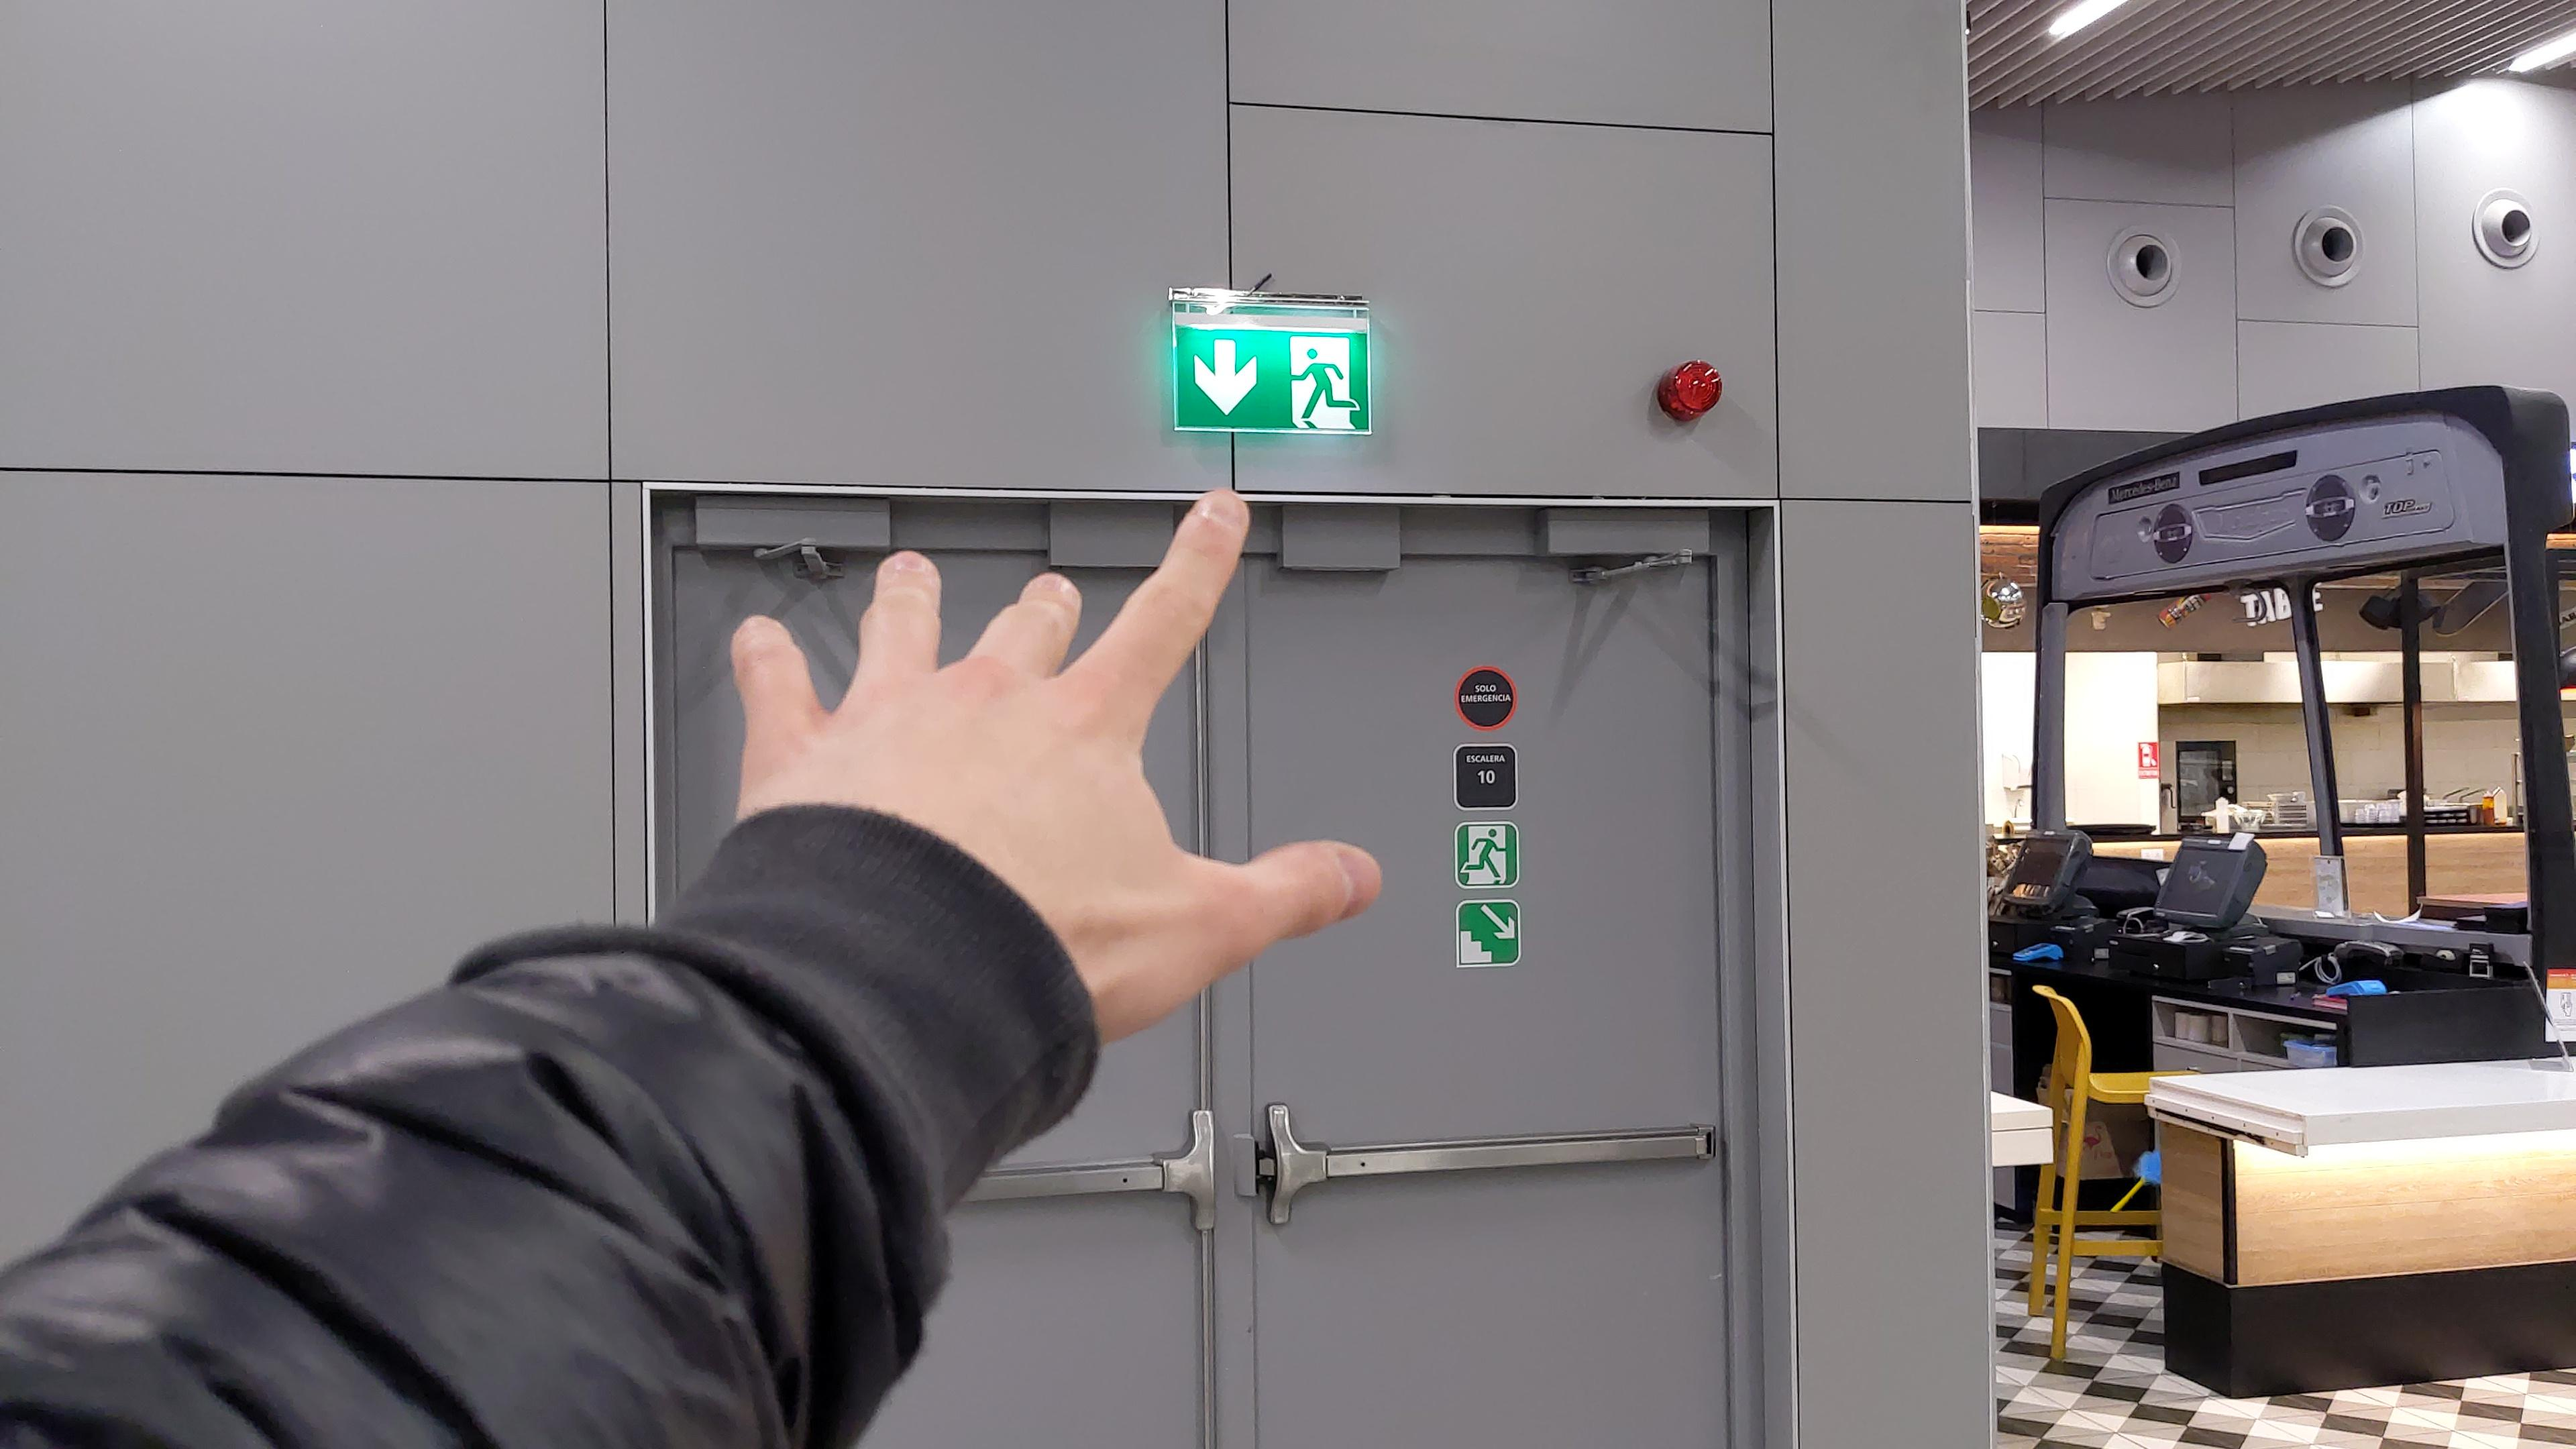emergency down arrow: (1189, 334, 1265, 421)
emergency exit: (1283, 332, 1364, 435), (1460, 824, 1511, 885)
